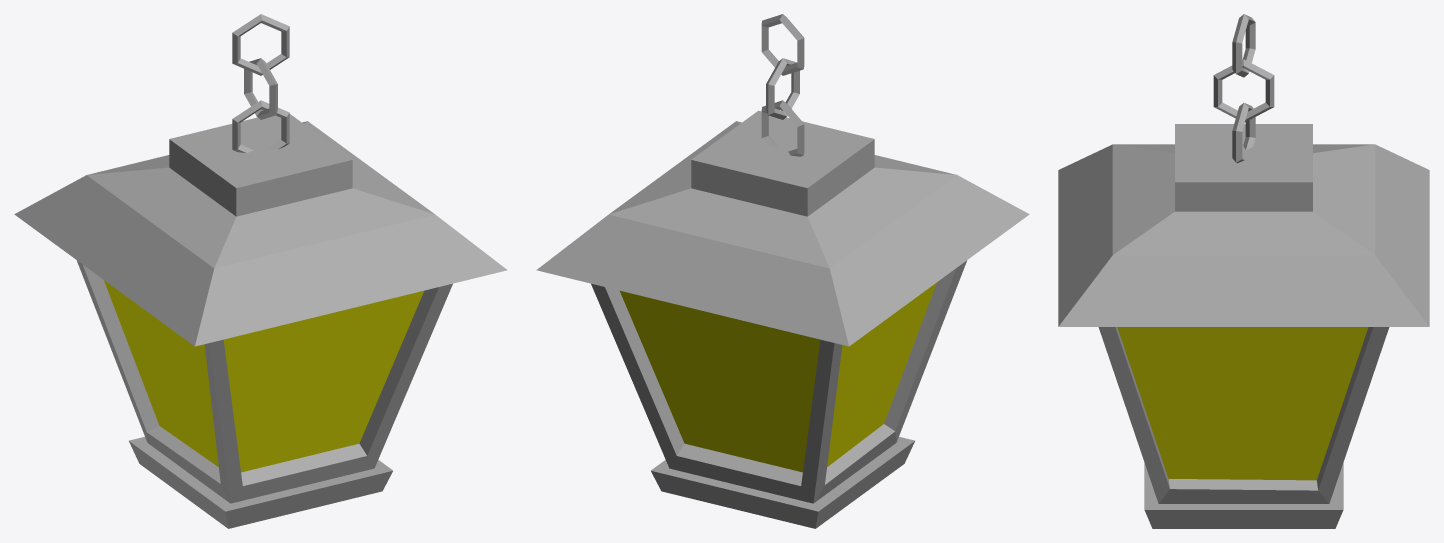
File: Deco_Lantern.fbx
3 views of the same model, side by side, from view 1: azimuth 30°, elevation 25°; view 2: azimuth 150°, elevation 25°; view 3: azimuth 270°, elevation 25° (orthographic). The views are drawn at different scales.
Visible parts, largest first — view 1: Deco_Lantern; view 2: Deco_Lantern; view 3: Deco_Lantern.
Part boxes in pixels (x1,y1,x2,y2): Deco_Lantern: [14, 14, 507, 528]; Deco_Lantern: [536, 14, 1029, 528]; Deco_Lantern: [1058, 14, 1429, 528].
Bounding box in the file's own units: 30.21 × 42.76 × 30.21.
